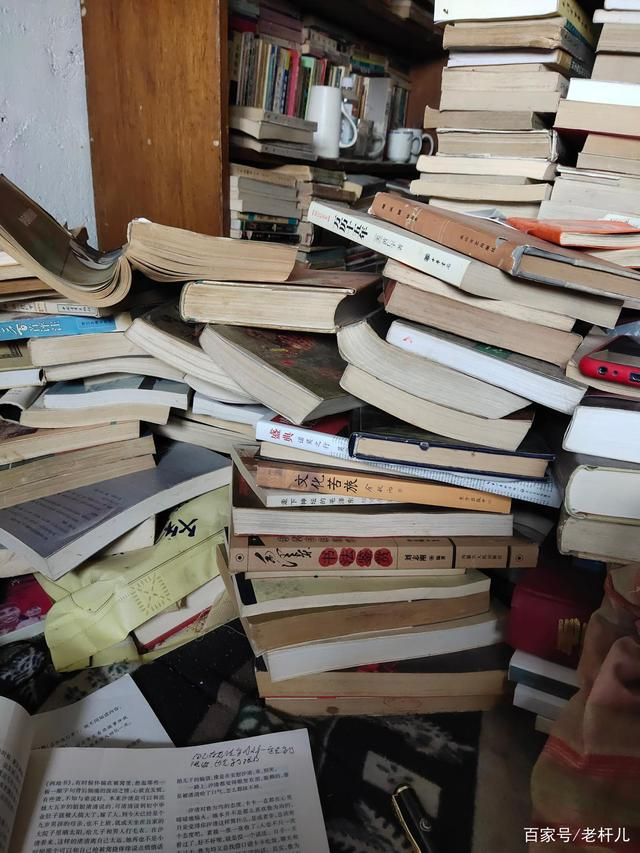book: (1, 693, 338, 853), (2, 166, 299, 316), (318, 190, 640, 324), (4, 465, 235, 575), (234, 465, 521, 540), (342, 419, 560, 487), (184, 272, 373, 339), (430, 61, 590, 109)
